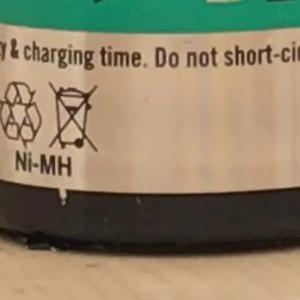NI-MH: (6, 146, 81, 181)
